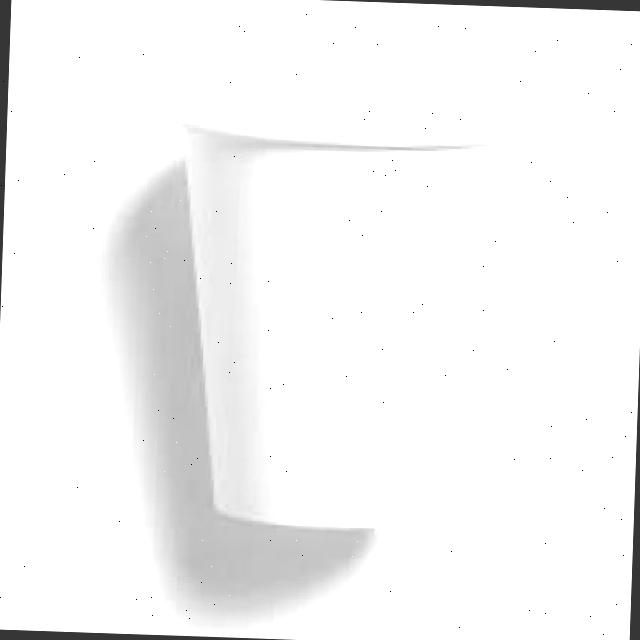trash: (155, 93, 502, 536)
